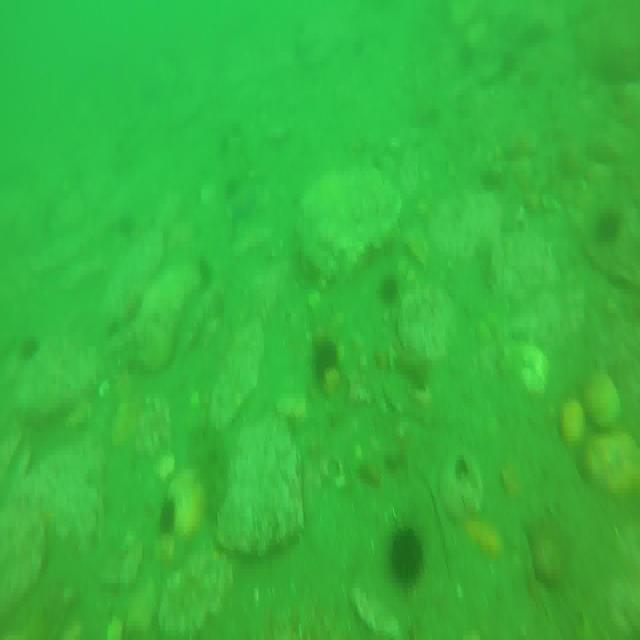echinus: (388, 528, 427, 584), (593, 210, 623, 244), (316, 334, 336, 374), (155, 495, 177, 531), (378, 273, 402, 305), (18, 330, 38, 367)
starfish: (228, 182, 260, 223)
